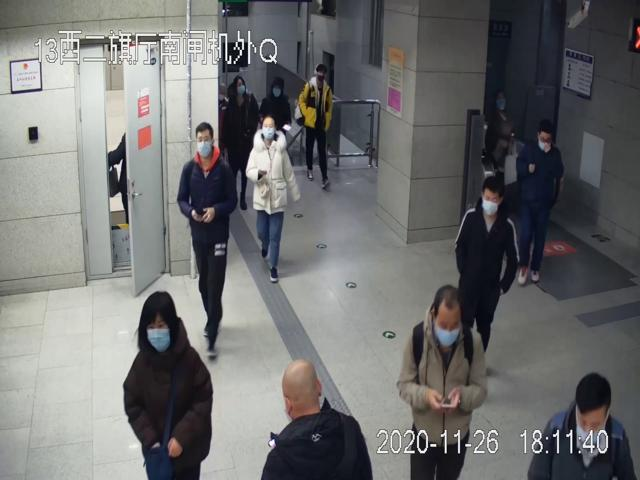person: (397, 283, 488, 480), (122, 289, 213, 480), (176, 123, 237, 356), (454, 175, 520, 355), (246, 112, 299, 284), (525, 147, 567, 327), (222, 75, 259, 208), (299, 62, 333, 192)
